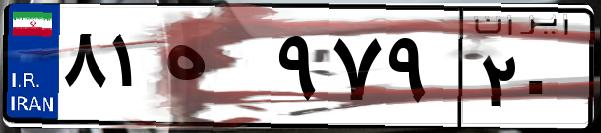0: (525, 38, 570, 115)
1: (110, 28, 158, 98)
2: (475, 38, 525, 113)
7: (330, 28, 385, 110)
8: (57, 26, 110, 100)
9: (270, 28, 330, 110), (385, 28, 445, 110)
ه: (158, 20, 270, 120)
